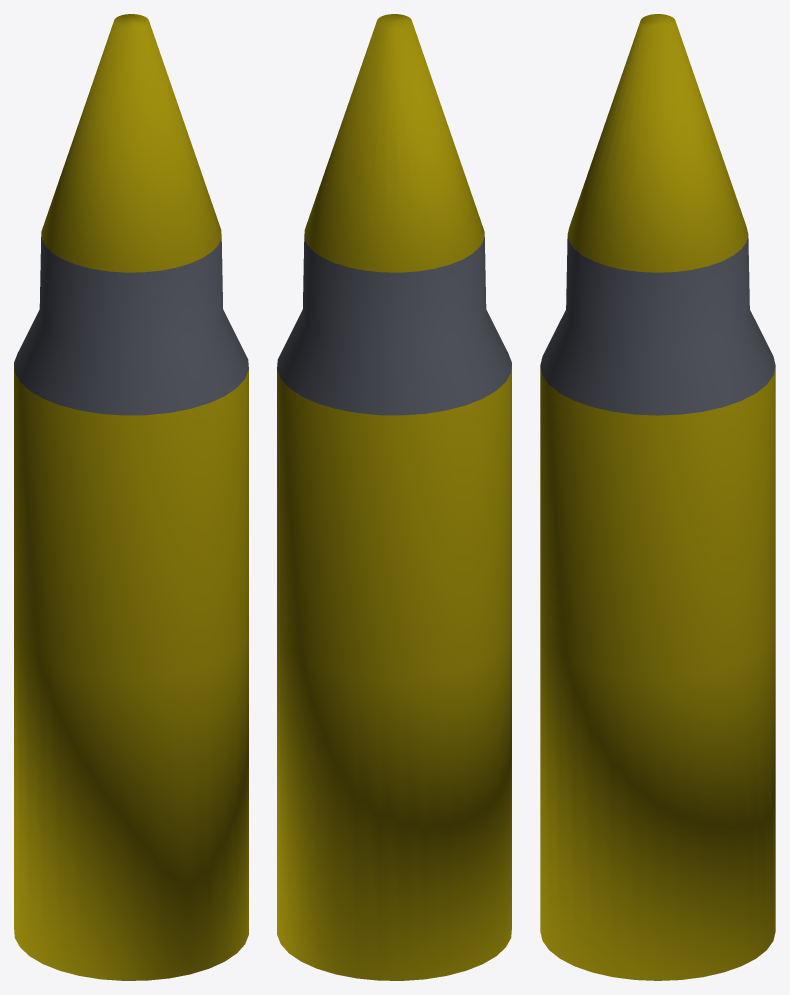
The model's file is sniperbullet.fbx.
3 renders of one model, left to right at view 1: azimuth 30°, elevation 25°; view 2: azimuth 150°, elevation 25°; view 3: azimuth 270°, elevation 25°, orthographic.
Parts seen in each view (by area): view 1: sniper ammo.001; view 2: sniper ammo.001; view 3: sniper ammo.001.
Part boxes in pixels (box(x1,y1,x2,y2)): sniper ammo.001: box(14, 14, 248, 980); sniper ammo.001: box(277, 14, 511, 980); sniper ammo.001: box(540, 14, 775, 980).
Size of the model in its own units: 171 by 727 by 171.
